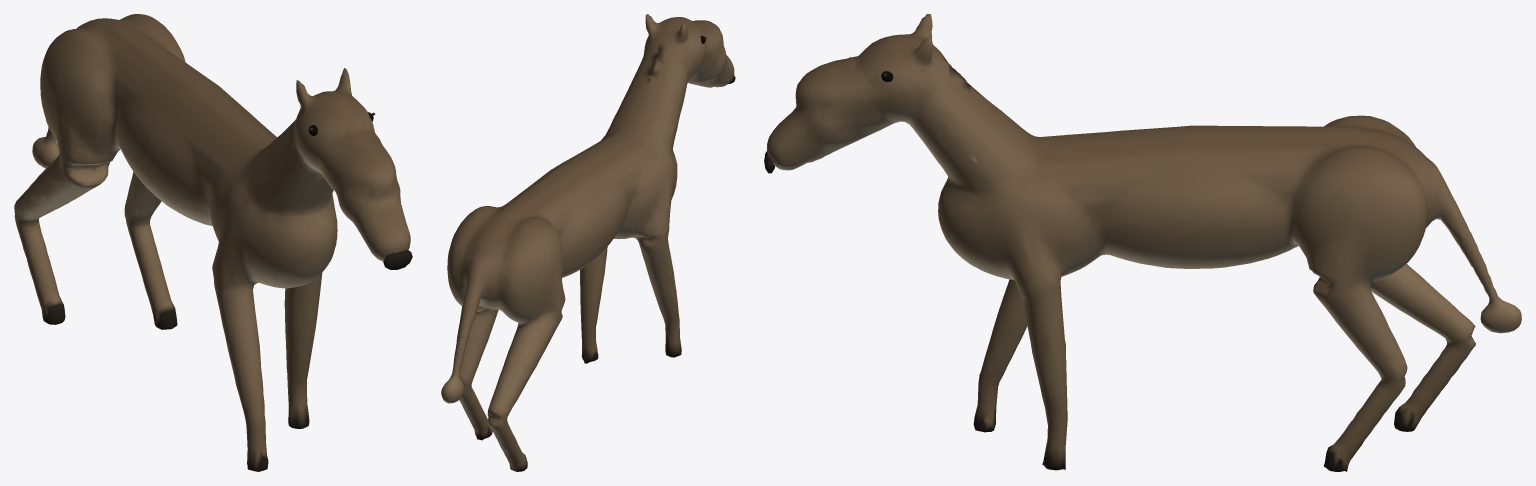
File: MesohippusBairdi.fbx
The picture shows the model from 3 angles, left to right: view 1: azimuth 30°, elevation 25°; view 2: azimuth 150°, elevation 25°; view 3: azimuth 270°, elevation 25°; orthographic projection. The views are drawn at different scales.
Parts seen in each view (by area): view 1: MesohippusBairdi; view 2: MesohippusBairdi; view 3: MesohippusBairdi.
Boxes of the visible parts, left/top/right/bottom form: MesohippusBairdi: left=14, top=14, right=412, bottom=471; MesohippusBairdi: left=441, top=14, right=735, bottom=471; MesohippusBairdi: left=764, top=14, right=1521, bottom=471.
Bounding box in the file's own units: 0.3459 × 1.08 × 1.75.
